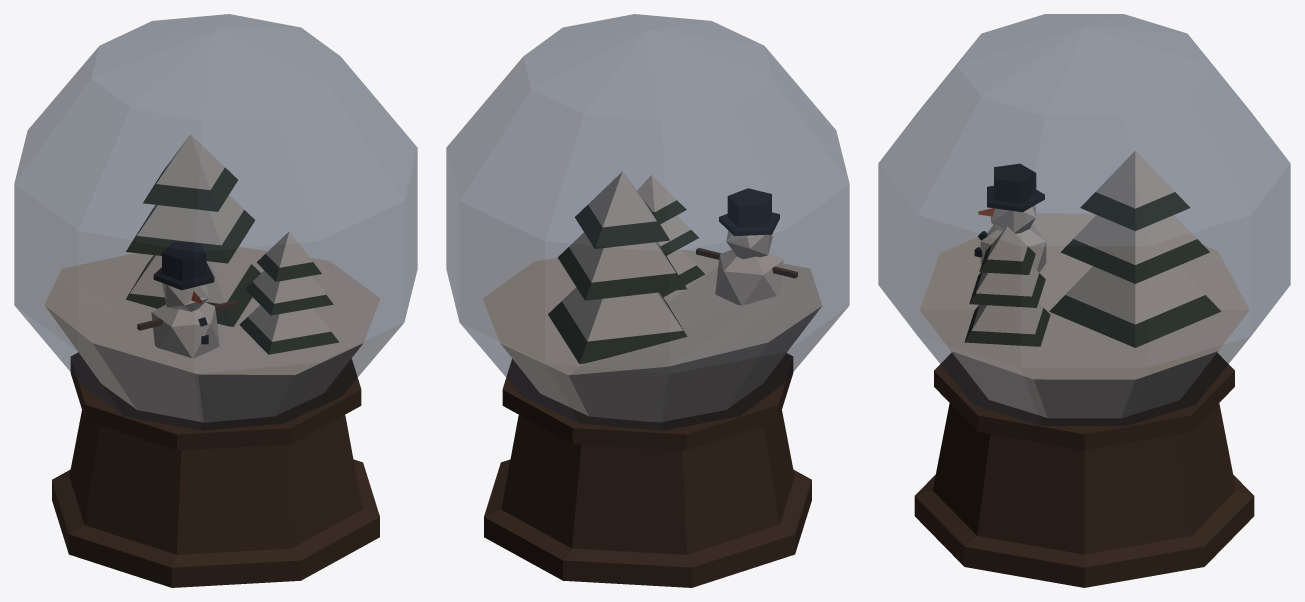
The model's file is snow-globe.glb.
3 views of the same model, side by side, from view 1: azimuth 30°, elevation 25°; view 2: azimuth 150°, elevation 25°; view 3: azimuth 270°, elevation 25° (orthographic).
Parts seen in each view (by area): view 1: snow_globe; view 2: snow_globe; view 3: snow_globe.
Part boxes in pixels (x1=…): snow_globe: x1=14, y1=14, x2=417, y2=587; snow_globe: x1=446, y1=14, x2=849, y2=587; snow_globe: x1=878, y1=14, x2=1290, y2=587.
Bounding box in the file's own units: 0.1903 × 0.2616 × 0.2001.
2 materials, 2 textured.
